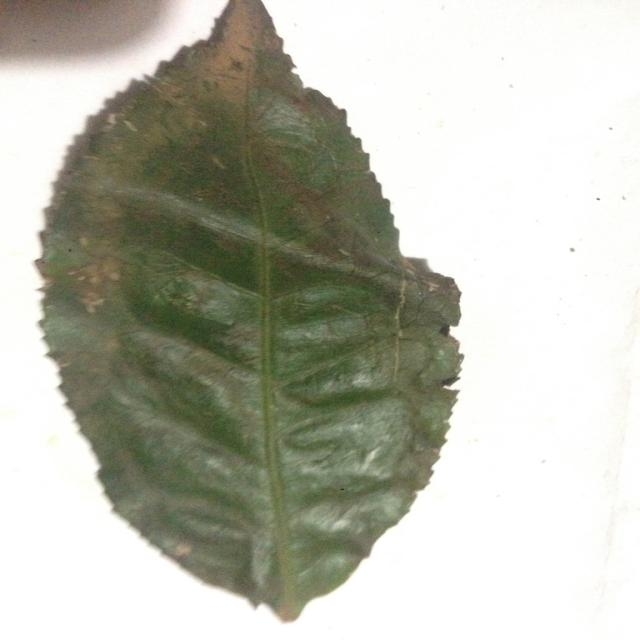Red Leaf Spot: (45, 3, 482, 631)
